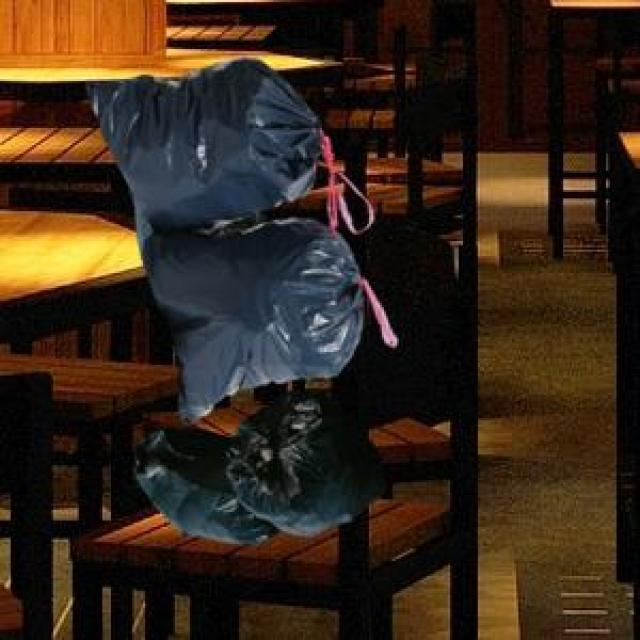waste: (92, 60, 362, 421), (139, 400, 378, 543)
